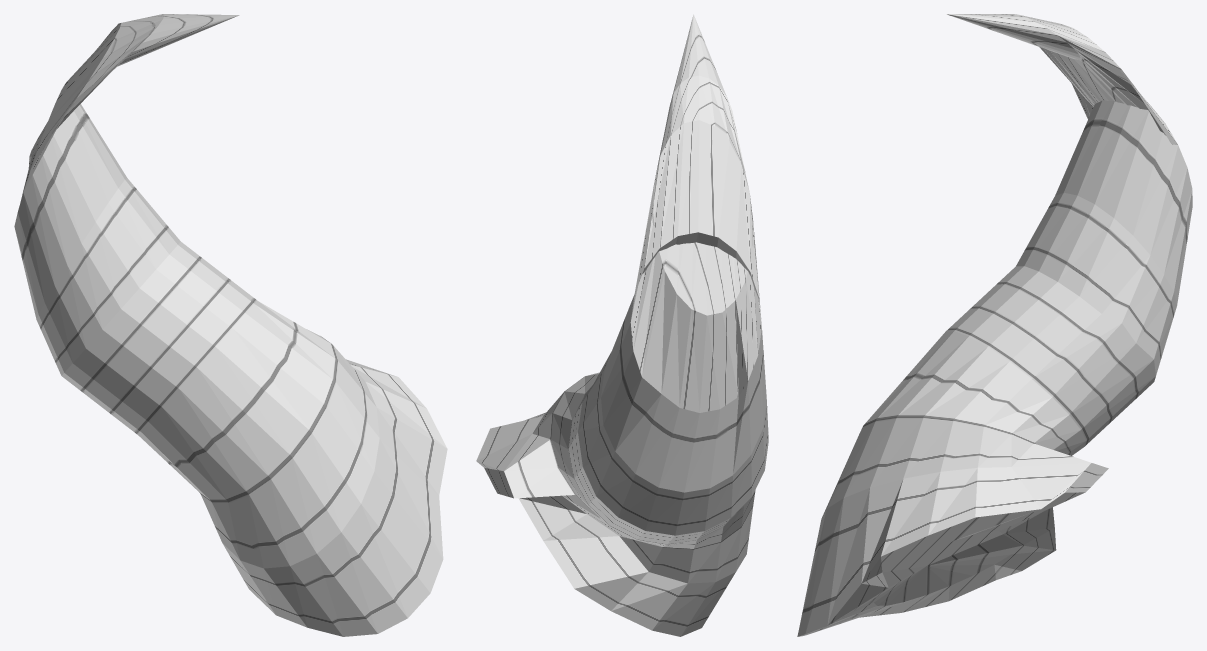
The model's file is hat_1__Object_0.glb.
3 views of the same model, side by side, from view 1: azimuth 30°, elevation 25°; view 2: azimuth 150°, elevation 25°; view 3: azimuth 270°, elevation 25° (orthographic). The views are drawn at different scales.
Parts seen in each view (by area): view 1: geometry_0; view 2: geometry_0; view 3: geometry_0.
Part boxes in pixels (bbox=[...]): geometry_0: bbox=[14, 14, 447, 636]; geometry_0: bbox=[476, 14, 768, 636]; geometry_0: bbox=[797, 14, 1192, 636].
Bounding box in the file's own units: 0.5548 × 0.9778 × 0.5904.
1 material, 1 textured.
